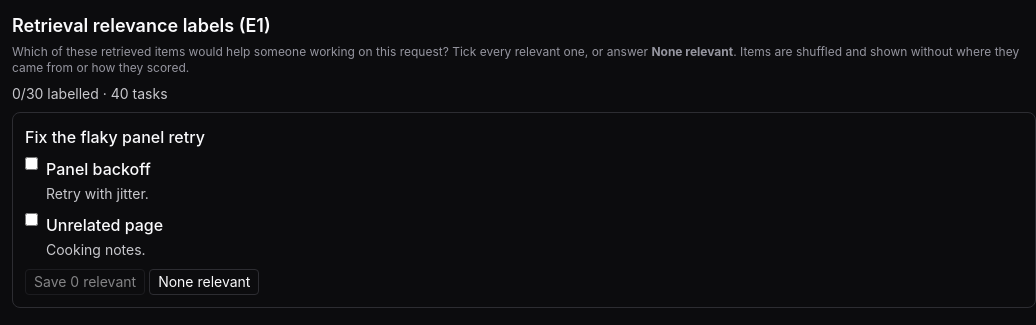
Test: shows the query and blind candidates, posts the ticked handles, and counts n/30
This screenshot has width=1036, height=325.
expect the heading "Fix the flaky panel retry" is shown: met, box top-left (25, 127), bottom-right (205, 147)
expect the text named "E1 labelling progress" shows "0/30": met, box top-left (12, 85), bottom-right (168, 102)
Click the checkbox labelled "Panel backoff".
click(32, 164)  # box top-left (25, 157), bottom-right (38, 170)
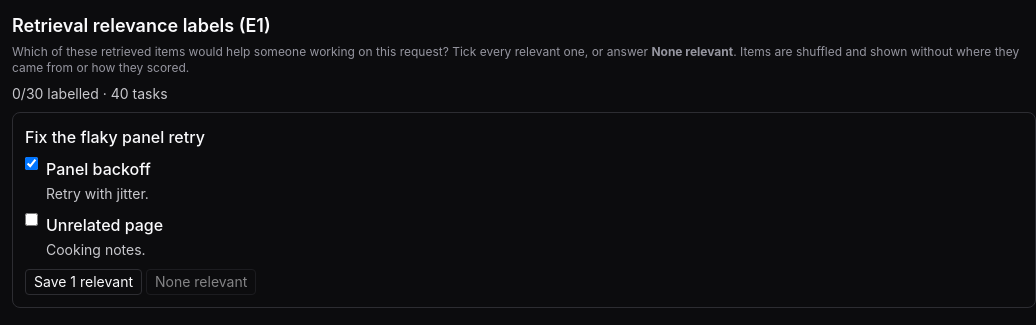
expect the button "None relevant" is disabled: met, box top-left (146, 269), bottom-right (256, 295)
Click the button "Save 1 relevant".
click(84, 282)  # box top-left (25, 269), bottom-right (142, 295)
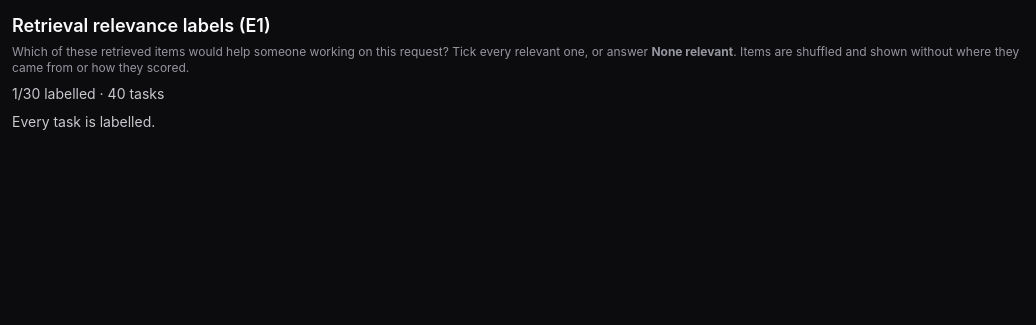
expect the text "Every task is labelled." is shown: met, box top-left (12, 113), bottom-right (155, 130)
expect the text named "E1 labelling progress" shows "1/30": met, box top-left (12, 85), bottom-right (164, 102)
